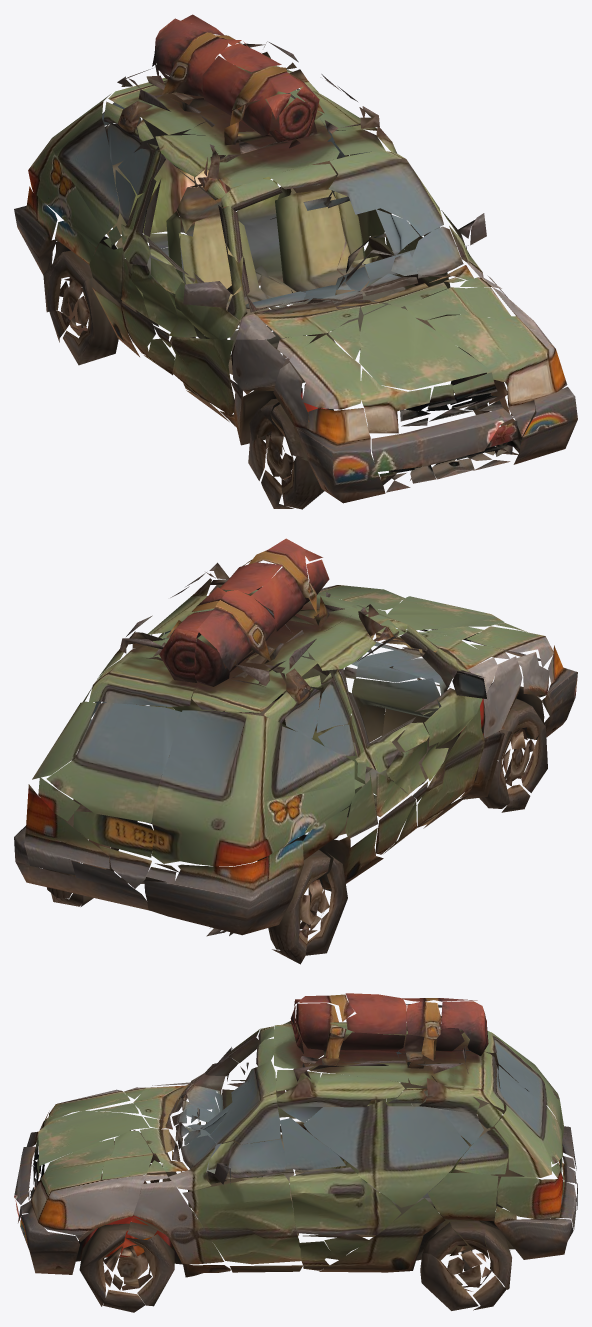
Rendered from hatchback.glb.
The picture shows the model from 3 angles, top to bottom: view 1: azimuth 30°, elevation 25°; view 2: azimuth 150°, elevation 25°; view 3: azimuth 270°, elevation 25°; orthographic projection. The views are drawn at different scales.
Visible parts, largest first — view 1: tripo_node_96f50eda-955c-4056-a906-6a1322b2f106; view 2: tripo_node_96f50eda-955c-4056-a906-6a1322b2f106; view 3: tripo_node_96f50eda-955c-4056-a906-6a1322b2f106.
Part boxes in pixels (<box>): tripo_node_96f50eda-955c-4056-a906-6a1322b2f106: <box>14,14,577,509</box>; tripo_node_96f50eda-955c-4056-a906-6a1322b2f106: <box>14,538,577,964</box>; tripo_node_96f50eda-955c-4056-a906-6a1322b2f106: <box>14,993,577,1312</box>.
Size of the model in its own units: 1.48 by 1.49 by 2.89.
1 material, 1 textured.
